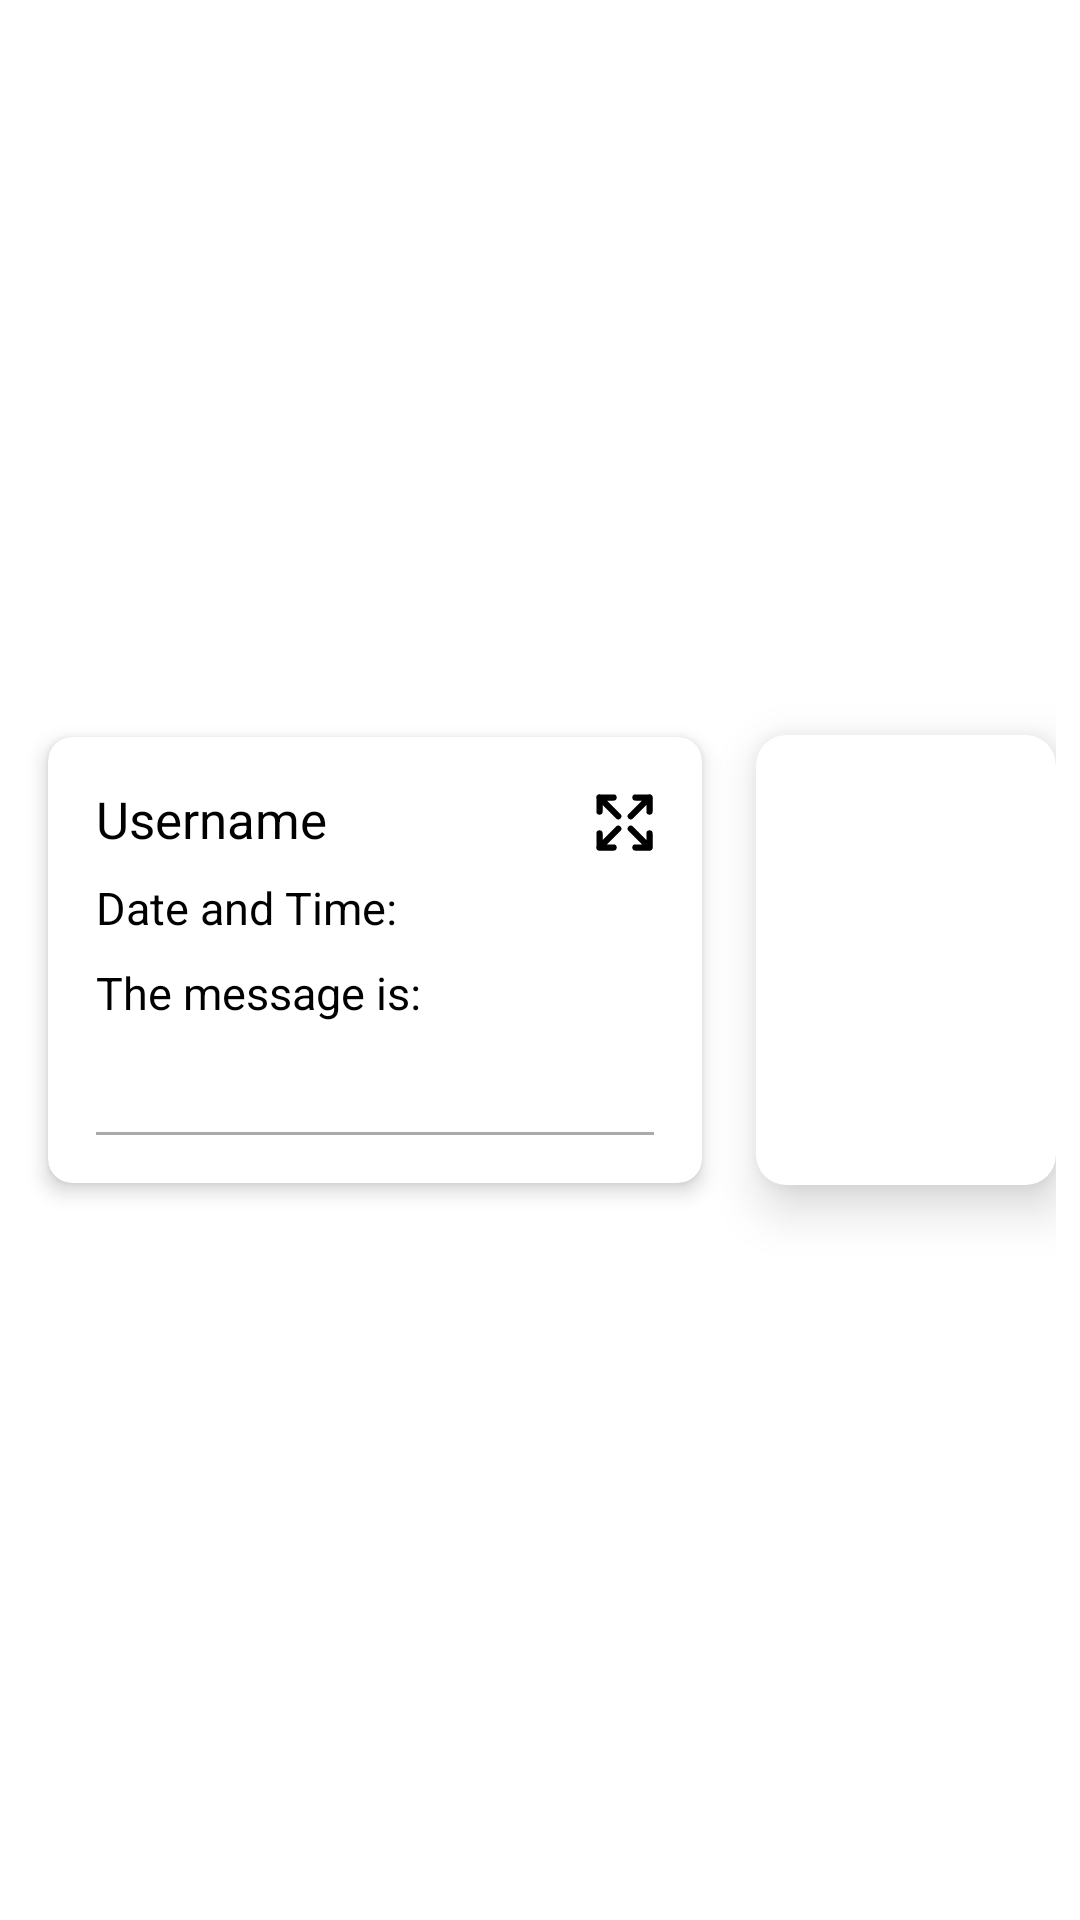

Icon bounding boxes for this 1080x1920 phone screenshot, format region(x1, y1, x2, y2):
maximize: region(596, 794, 653, 851)
